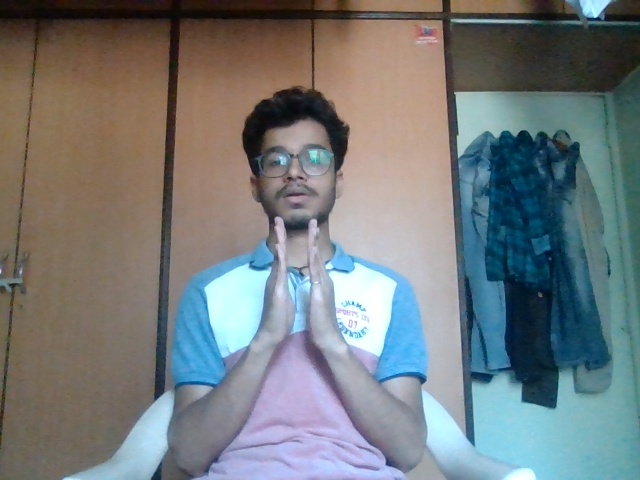morning: (255, 215, 361, 343)
